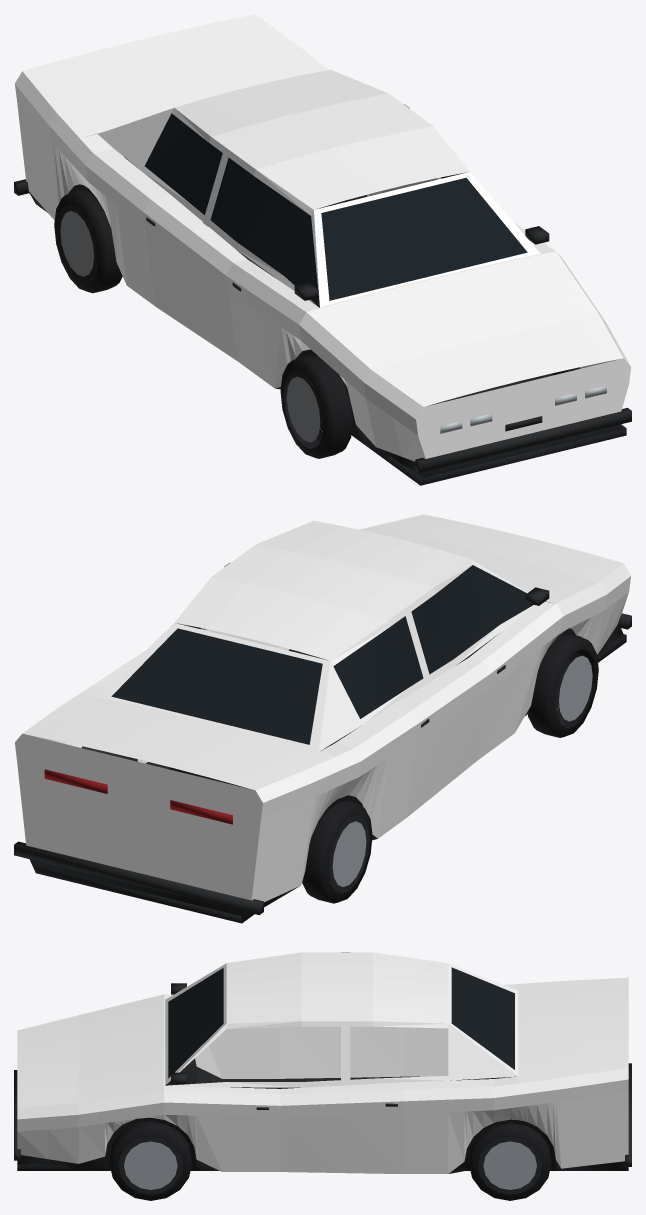
Rendered from hozuki_ancoragem.glb.
3 renders of one model, top to bottom at view 1: azimuth 30°, elevation 25°; view 2: azimuth 150°, elevation 25°; view 3: azimuth 270°, elevation 25°, orthographic. The views are drawn at different scales.
Parts seen in each view (by area): view 1: Body_Paint, Body_Details, Mount_FrontLeft_Wheel_Details, Mount_RearLeft_Wheel_Details; view 2: Body_Paint, Body_Details, Mount_FrontLeft_Wheel_Details, Mount_RearLeft_Wheel_Details; view 3: Body_Paint, Body_Details, Mount_FrontRight_Wheel_Details, Mount_RearRight_Wheel_Details.
Part boxes in pixels (<box>): Body_Paint: <box>15,14,630,461</box>; Body_Details: <box>14,113,631,485</box>; Mount_FrontLeft_Wheel_Details: <box>280,354,352,458</box>; Mount_RearLeft_Wheel_Details: <box>54,189,122,293</box>; Body_Paint: <box>15,514,630,902</box>; Body_Details: <box>14,565,631,923</box>; Mount_FrontLeft_Wheel_Details: <box>527,632,598,737</box>; Mount_RearLeft_Wheel_Details: <box>302,800,372,903</box>; Body_Paint: <box>17,952,628,1173</box>; Body_Details: <box>14,967,631,1173</box>; Mount_FrontRight_Wheel_Details: <box>109,1121,191,1200</box>; Mount_RearRight_Wheel_Details: <box>469,1123,551,1200</box>.
Size of the model in its own units: 2.02 by 1.46 by 4.93.
2 materials, 1 textured.
